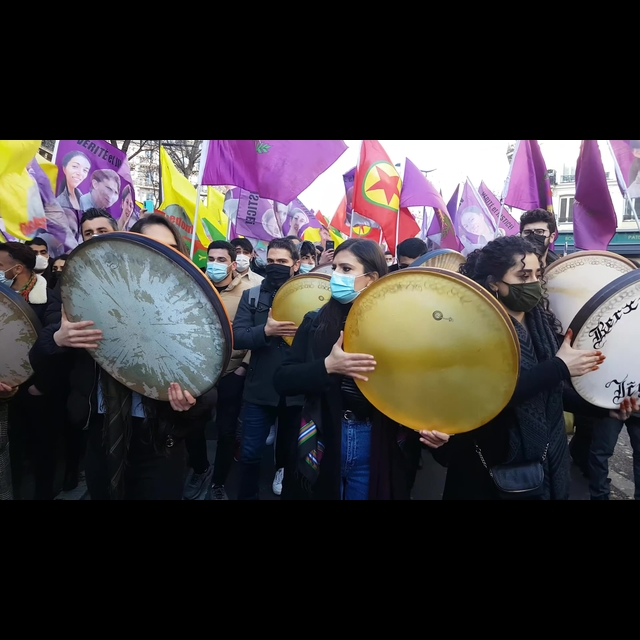PKK: (359, 156, 405, 216)
